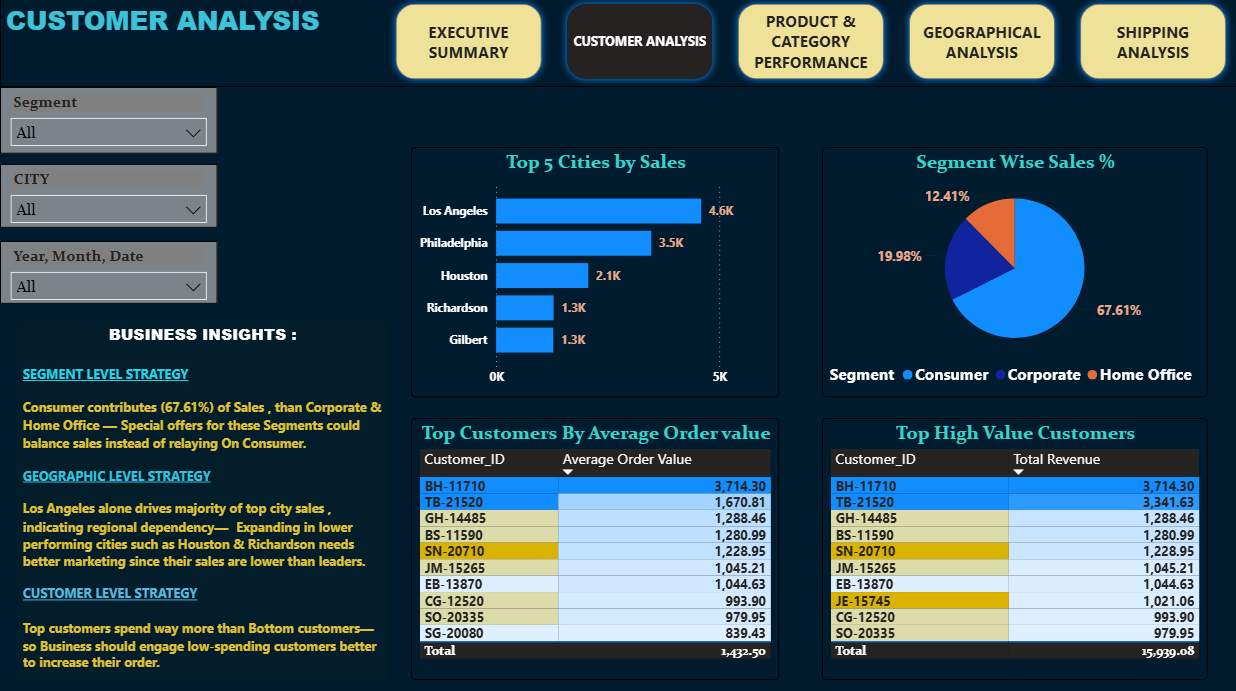

This screenshot's page, from the dashboard's own definition file:
{"tool":"powerbi","page":{"name":"CUSTOMER ANALYSIS","canvas":[1280,720],"ordinal":1},"visuals":[{"type":"clusteredBarChart","title":" Top 5 Cities by Sales","fields":{"Category":["sales_data.City"],"Y":["_measures.Total Revenue"]},"box":[425.2,156,381.1,258.9],"z":0},{"type":"pieChart","title":"Segment Wise Sales %","fields":{"Category":["sales_data.Segment"],"Y":["_measures.Total Revenue"]},"box":[850.4,156,398.7,258.9],"z":1},{"type":"tableEx","title":"Top High Value Customers","fields":{"Values":["sales_data.Customer_ID","_measures.Total Revenue"]},"box":[850.4,437,398.7,270.7],"z":2},{"type":"tableEx","title":"Top Customers By Average Order value","fields":{"Values":["sales_data.Customer_ID","_measures.Average Order Value"]},"box":[425.2,437,381.1,270.7],"z":3},{"type":"textbox","box":[0,0,1280,94.2],"z":4},{"type":"slicer","fields":{"Values":["sales_data.City"]},"box":[0,173.6,225.1,66.2],"z":5},{"type":"slicer","fields":{"Values":["Date.Year","Date.Month","Date.Date"]},"box":[0,253.1,225.1,64.7],"z":6},{"type":"slicer","fields":{"Values":["sales_data.Segment"]},"box":[0,94.2,225.1,69.1],"z":7},{"type":"textbox","box":[19.1,336.9,382.5,370.8],"z":8},{"type":"pageNavigator","box":[401.7,0,878.3,94.2],"z":9}]}

Visuals, with their boxes in screenshot pixels (x1, y1, x2, y2), scaled from the page's 1280x720 canvas onto the 1236x691 screenshot:
" Top 5 Cities by Sales" clusteredBarChart: rect(411, 150, 779, 398)
"Segment Wise Sales %" pieChart: rect(821, 150, 1206, 398)
"Top High Value Customers" tableEx: rect(821, 419, 1206, 679)
"Top Customers By Average Order value" tableEx: rect(411, 419, 779, 679)
textbox: rect(0, 0, 1235, 90)
slicer - sales_data.City: rect(0, 167, 217, 230)
slicer - Date.Year x Date.Month: rect(0, 243, 217, 305)
slicer - sales_data.Segment: rect(0, 90, 217, 157)
textbox: rect(18, 323, 388, 679)
pageNavigator: rect(388, 0, 1235, 90)
